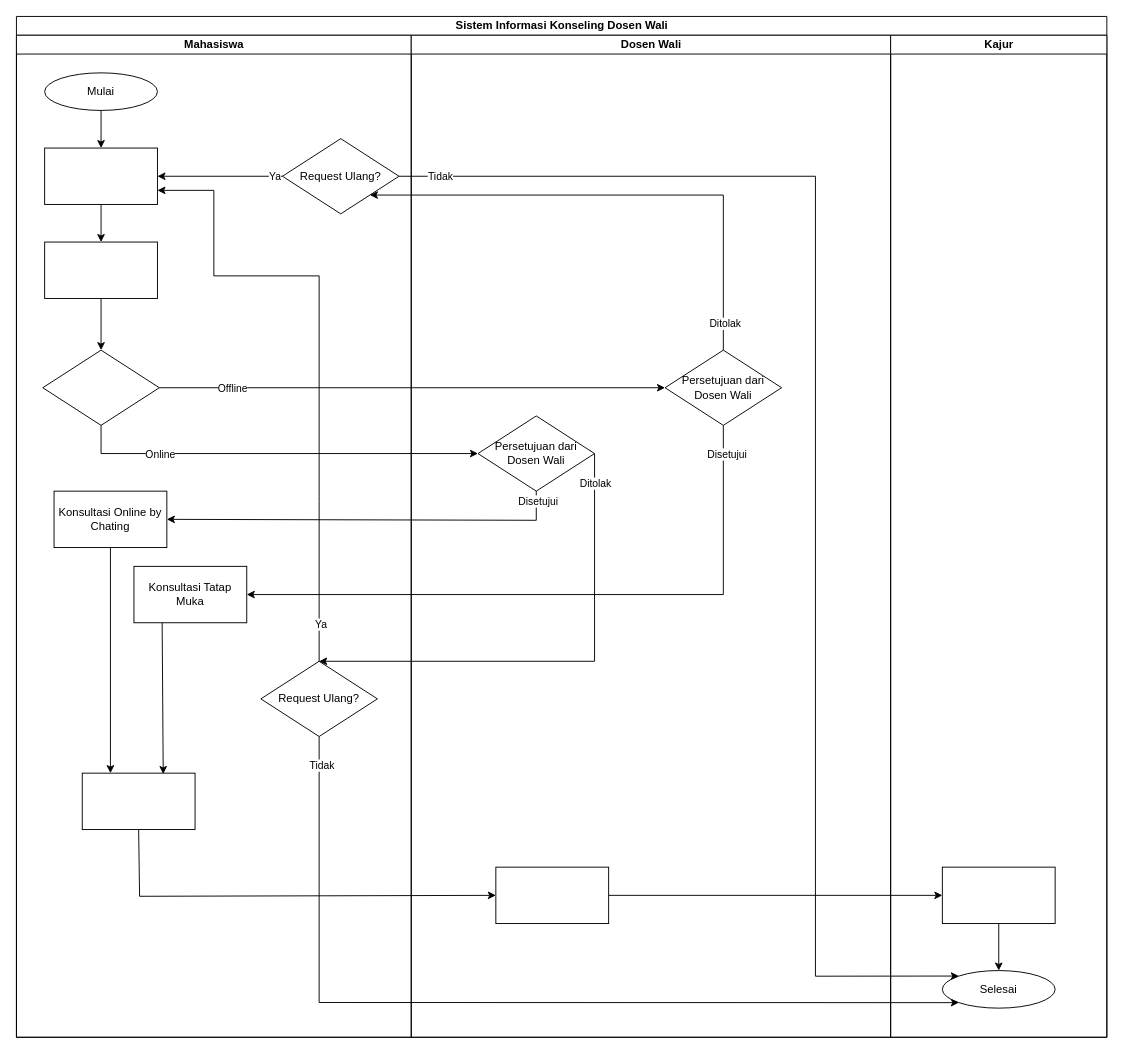
Some shapes in this 1123 by 1054 pixel diagram are drawn without their labels. The shapes that lost their labels are listed below. From the top down, each one's centre as x and y in pixels, then its label:
At (100,175): "Mahasiswa Membuat Jadwal Konseling".
At (100,269): "Memilih Topik Konseling".
At (100,387): "Memilih Jenis Konsultasi".
At (138,801): "Input Masalah dan Solusi".
At (552,895): "Pembuatan Laporan Perwalian".
At (998,895): "Melihat Laporan".
